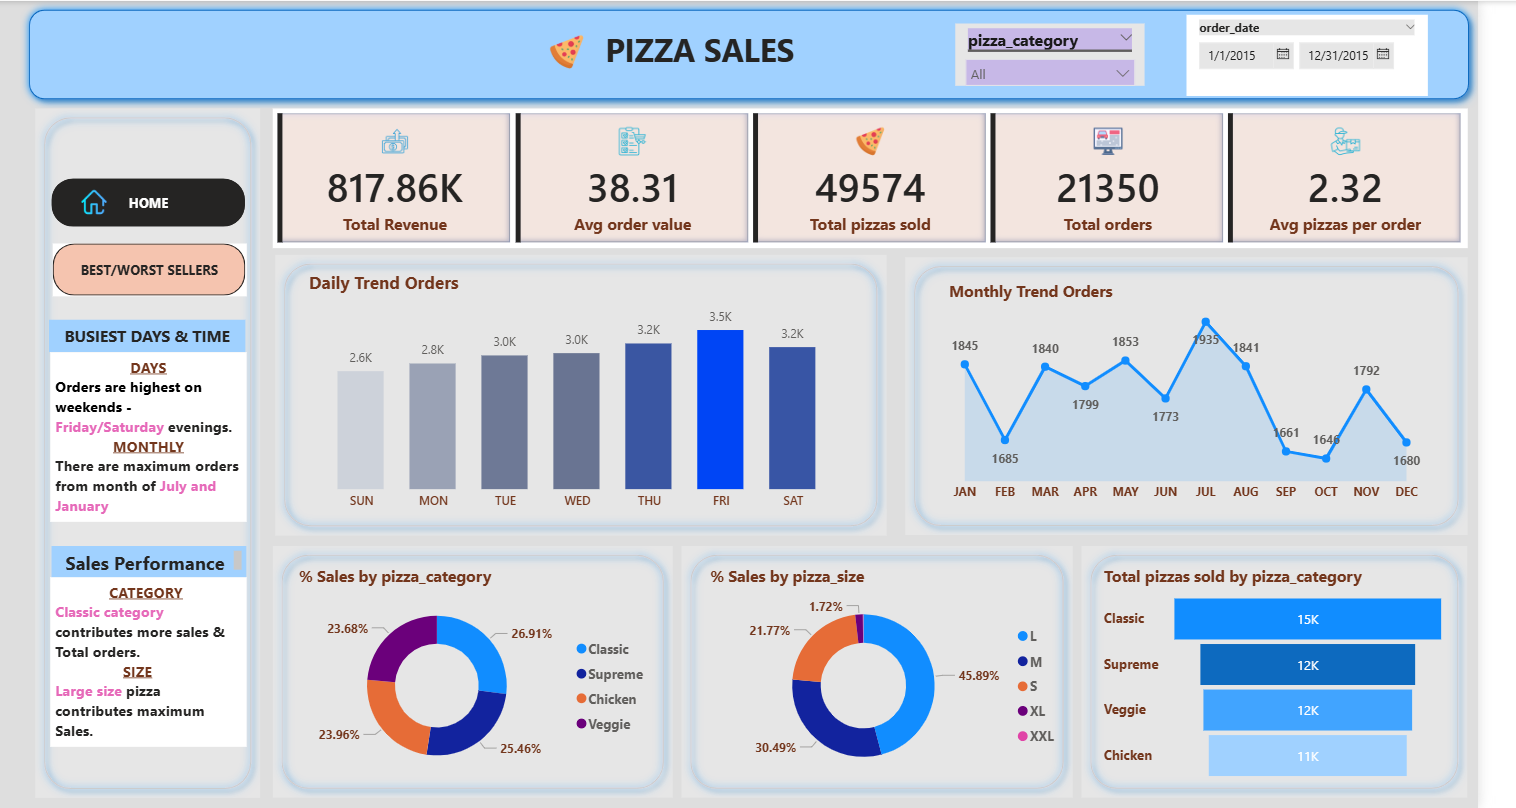

Layout of this report page (visuals, bound fields, positions):
{"tool":"powerbi","page":{"name":"HOME","canvas":[1500,820],"ordinal":0},"visuals":[{"type":"cardVisual","fields":{"Data":["pizza_sales.Total Revenue","pizza_sales.Avg order value","pizza_sales.Total pizzas sold","pizza_sales.Total orders","pizza_sales.Avg pizzas per order"]},"box":[277.5,108.5,1211.9,141.5],"z":0},{"type":"shape","box":[22,0,1478.4,108.5],"z":1000},{"type":"textbox","box":[610.1,23.4,563.3,74.2],"z":2000},{"type":"image","box":[354.5,28.9,441.1,45.3],"z":3000},{"type":"shape","box":[280.3,256.9,619.7,284.4],"z":4000},{"type":"columnChart","title":"Daily Trend Orders","fields":{"Category":["pizza_sales.Day"],"Y":["pizza_sales.Total orders"]},"box":[309.2,273.4,555.1,251.4],"z":5000},{"type":"shape","box":[919.2,259.7,570.2,281.7],"z":6000},{"type":"areaChart","title":"Monthly Trend Orders","fields":{"Y":["pizza_sales.Total orders"],"Category":["pizza_sales.MONTH"]},"box":[959.1,283,490.5,233.6],"z":7000},{"type":"shape","box":[1097.8,552.3,391.6,255.6],"z":8000},{"type":"shape","box":[277.5,552.3,405.3,255.6],"z":9000},{"type":"shape","box":[692.5,552.3,397.1,255.6],"z":10000},{"type":"donutChart","title":"% Sales by pizza_category","fields":{"Category":["pizza_sales.pizza_category"],"Y":["pizza_sales.Total Revenue"]},"box":[299.5,571.6,368.2,224],"z":11000},{"type":"donutChart","title":"% Sales by pizza_size","fields":{"Y":["pizza_sales.Total Revenue"],"Category":["pizza_sales.pizza_size"]},"box":[715.9,571.6,368.2,224],"z":12000},{"type":"funnel","fields":{"Category":["pizza_sales.pizza_category"],"Y":["pizza_sales.Total pizzas sold"]},"box":[1115.7,571.6,357.2,224],"z":13000},{"type":"shape","box":[37.1,108.5,228.1,699.4],"z":14000},{"type":"slicer","fields":{"Values":["pizza_sales.pizza_category"]},"box":[970,23.4,192.4,63.2],"z":15000},{"type":"slicer","fields":{"Values":["pizza_sales.order_date"]},"box":[1205,13.7,244.6,82.4],"z":16000},{"type":"textbox","box":[50.8,322.9,199.2,33],"z":17000},{"type":"textbox","box":[52.2,355.9,199.2,171.8],"z":18000},{"type":"textbox","box":[53.6,552.3,197.9,31.6],"z":19000},{"type":"textbox","box":[52.2,584,199.2,171.8],"z":20000},{"type":"pageNavigator","box":[55,245.9,196.5,53.6],"z":21000},{"type":"pageNavigator","box":[53.6,180,197.9,49.5],"z":21001},{"type":"image","box":[74.2,186.9,42.6,35.7],"z":21002}]}

Visuals, with their boxes in screenshot pixels (x1, y1, x2, y2), scaled from the page's 1500x820 canvas onto the 1516x808 screenshot:
cardVisual - pizza_sales.Total Revenue x pizza_sales.Avg order value: [280,107,1505,246]
shape: [22,0,1515,107]
textbox: [617,23,1186,96]
image: [358,28,804,73]
shape: [283,253,910,533]
"Daily Trend Orders" columnChart: [312,269,874,517]
shape: [929,256,1505,533]
"Monthly Trend Orders" areaChart: [969,279,1465,509]
shape: [1110,544,1505,796]
shape: [280,544,690,796]
shape: [700,544,1101,796]
"% Sales by pizza_category" donutChart: [303,563,675,784]
"% Sales by pizza_size" donutChart: [724,563,1096,784]
funnel - pizza_sales.pizza_category x pizza_sales.Total pizzas sold: [1128,563,1489,784]
shape: [37,107,268,796]
slicer - pizza_sales.pizza_category: [980,23,1175,85]
slicer - pizza_sales.order_date: [1218,13,1465,95]
textbox: [51,318,253,351]
textbox: [53,351,254,520]
textbox: [54,544,254,575]
textbox: [53,575,254,745]
pageNavigator: [56,242,254,295]
pageNavigator: [54,177,254,226]
image: [75,184,118,219]
